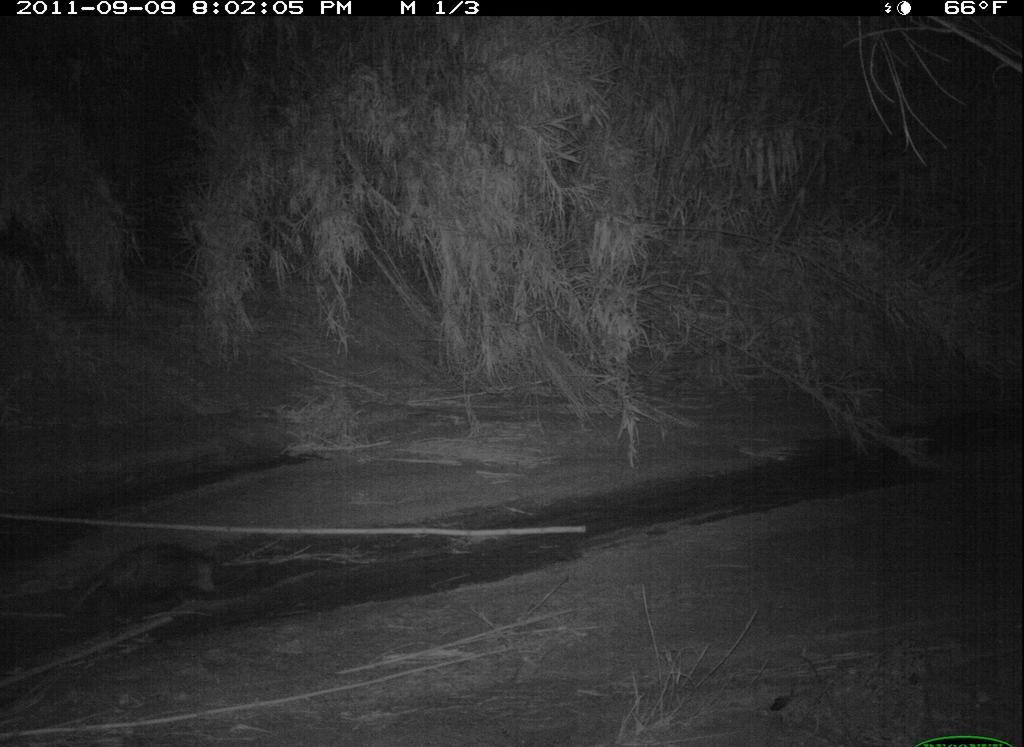opossum: (50, 534, 225, 637)
